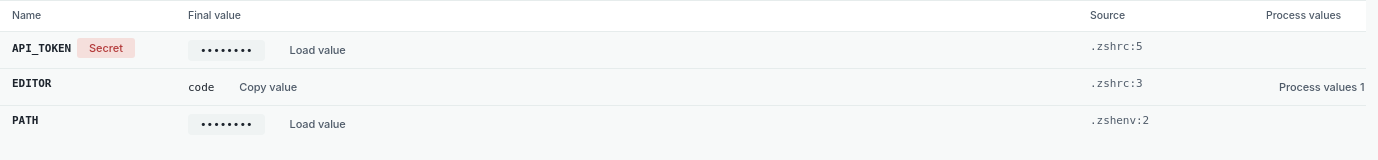
Test: copying variable values › labels the copy controls in English without Chinese characters
Click the button with aria-label "Copy the value of EDITOR": (268, 87) x1=226 y1=75 x2=310 y2=99
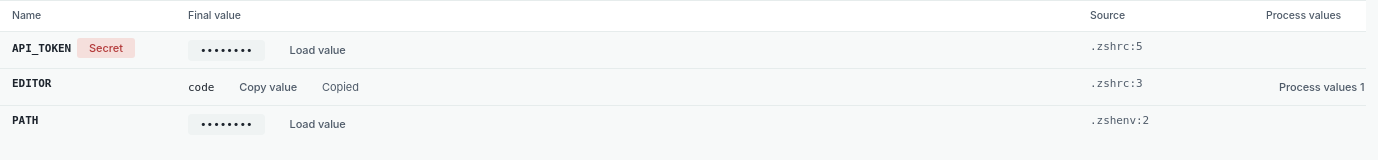
Result: the message reads "Copied" at x1=322 y1=80 x2=359 y2=94
